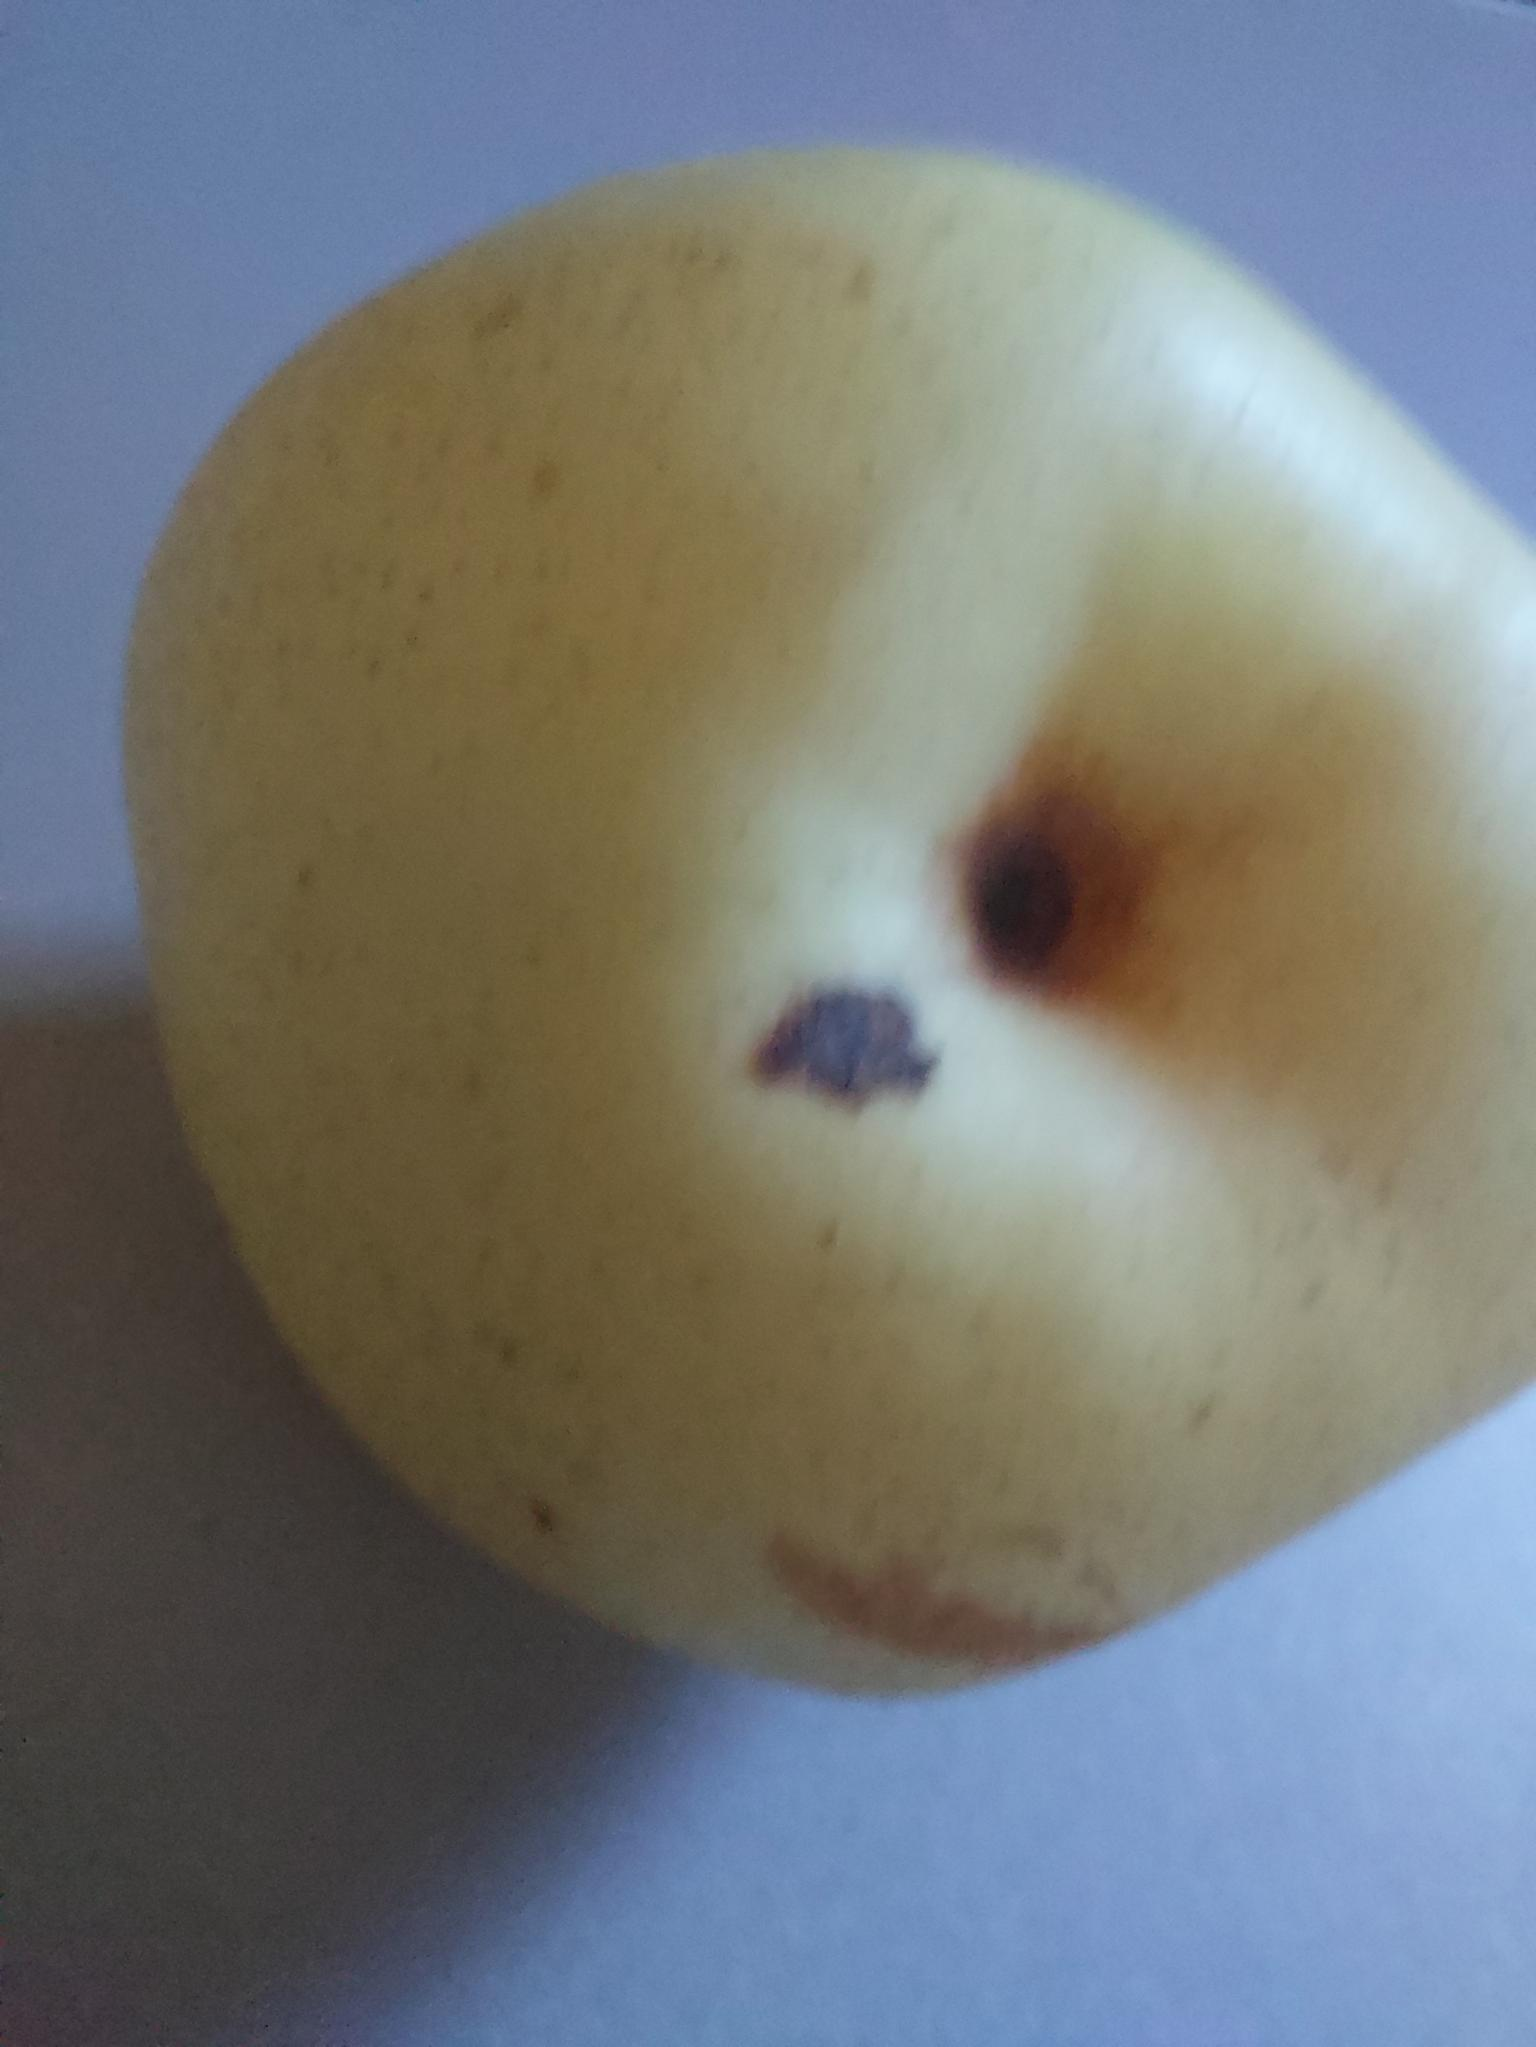Good Pear: (40, 53, 1536, 1747)
